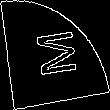M_W: (30, 28, 80, 82)
